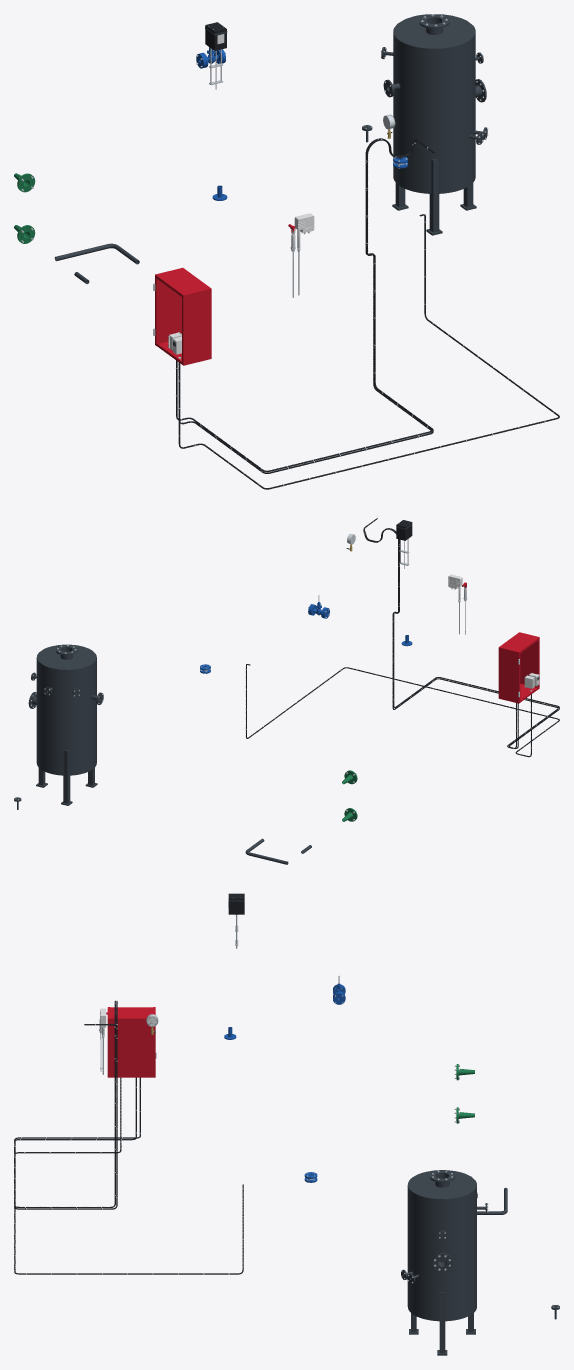
3 views of the same model, one above another, from view 1: azimuth 30°, elevation 25°; view 2: azimuth 150°, elevation 25°; view 3: azimuth 270°, elevation 25° (orthographic). The views are drawn at different scales.
Visible parts, largest first — view 1: separator_bdv60_5 / dark, control_cabinet / control_cabinet_0.npz, wiring_pump_1 / black, wiring_pressure_switch_2 / black, wiring_pressure_switch_1 / black, eco_inlet_adapter / green; view 2: separator_bdv60_5 / dark, control_cabinet / control_cabinet_0.npz, wiring_pressure_switch_1 / black, wiring_pump_1 / black, wiring_pressure_switch_2 / black; view 3: separator_bdv60_5 / dark, control_cabinet / control_cabinet_0.npz, wiring_pump_1 / black, wiring_pressure_switch_1 / black, wiring_pressure_switch_2 / black.
Boxes of the visible parts, x1,y1,x2,y2 form: separator_bdv60_5 / dark: [381, 14, 487, 235]; control_cabinet / control_cabinet_0.npz: [153, 267, 211, 365]; wiring_pump_1 / black: [178, 214, 559, 489]; wiring_pressure_switch_2 / black: [176, 139, 433, 471]; wiring_pressure_switch_1 / black: [178, 138, 434, 473]; eco_inlet_adapter / green: [14, 173, 35, 243]; separator_bdv60_5 / dark: [28, 644, 103, 805]; control_cabinet / control_cabinet_0.npz: [498, 632, 539, 703]; wiring_pressure_switch_1 / black: [363, 518, 559, 748]; wiring_pump_1 / black: [246, 664, 559, 757]; wiring_pressure_switch_2 / black: [364, 525, 559, 748]; separator_bdv60_5 / dark: [401, 1170, 487, 1355]; control_cabinet / control_cabinet_0.npz: [107, 1007, 156, 1077]; wiring_pump_1 / black: [14, 1077, 243, 1274]; wiring_pressure_switch_1 / black: [14, 1001, 136, 1209]; wiring_pressure_switch_2 / black: [14, 1000, 140, 1207].
Bounding box in the file's own units: 5.37 × 3.71 × 6.03.
